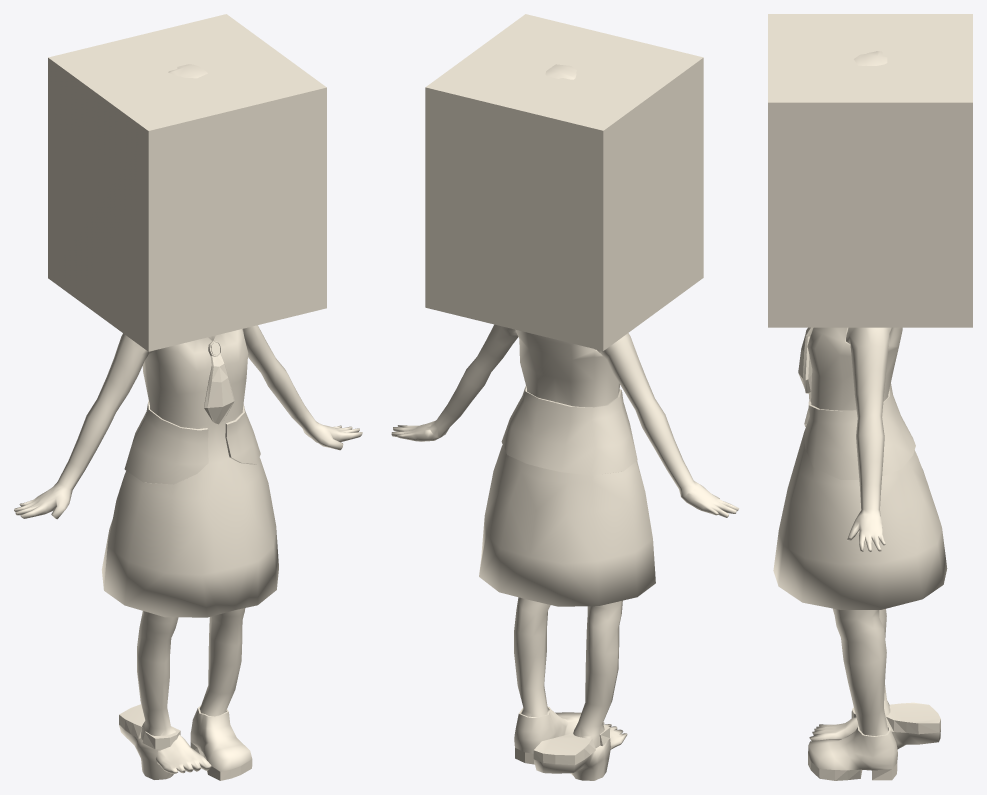
Rendered from player.fbx.
3 views of the same model, side by side, from view 1: azimuth 30°, elevation 25°; view 2: azimuth 150°, elevation 25°; view 3: azimuth 270°, elevation 25° (orthographic). The views are drawn at different scales.
Visible parts, largest first — view 1: Box001, Box003, Box002, Box005, Cylinder001, Cylinder002, Cylinder003; view 2: Box001, Box003, Box002, Box005, Cylinder002, Cylinder001; view 3: Box001, Box003, Box002, Box005, Cylinder001, Cylinder002, Cylinder003, オブジェクト003.
Boxes of the visible parts, left/top/right/bottom form: Box001: left=48, top=14, right=326, bottom=351; Box003: left=101, top=329, right=278, bottom=617; Box002: left=14, top=325, right=362, bottom=773; Box005: left=124, top=400, right=260, bottom=484; Cylinder001: left=190, top=705, right=252, bottom=780; Cylinder002: left=119, top=704, right=180, bottom=779; Cylinder003: left=204, top=340, right=234, bottom=424; Box001: left=425, top=14, right=703, bottom=350; Box003: left=479, top=329, right=655, bottom=606; Box002: left=391, top=324, right=739, bottom=749; Box005: left=501, top=385, right=637, bottom=475; Cylinder002: left=533, top=724, right=610, bottom=780; Cylinder001: left=514, top=706, right=581, bottom=764; Box001: left=768, top=14, right=972, bottom=327; Box003: left=773, top=327, right=947, bottom=609; Box002: left=809, top=327, right=891, bottom=740; Box005: left=804, top=383, right=915, bottom=479; Cylinder001: left=808, top=726, right=897, bottom=780; Cylinder002: left=851, top=702, right=940, bottom=749; Cylinder003: left=798, top=327, right=813, bottom=393; オブジェクト003: left=854, top=51, right=887, bottom=65.
Bounding box in the file's own units: 33.65 × 17.01 × 65.26.
Materials: 1 (1 with a texture image).
